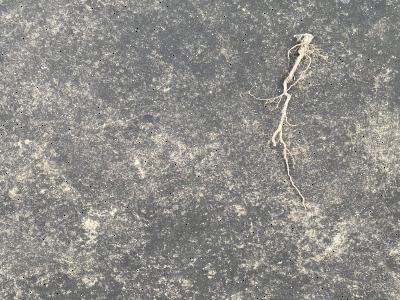Root: (266, 33, 313, 193)
